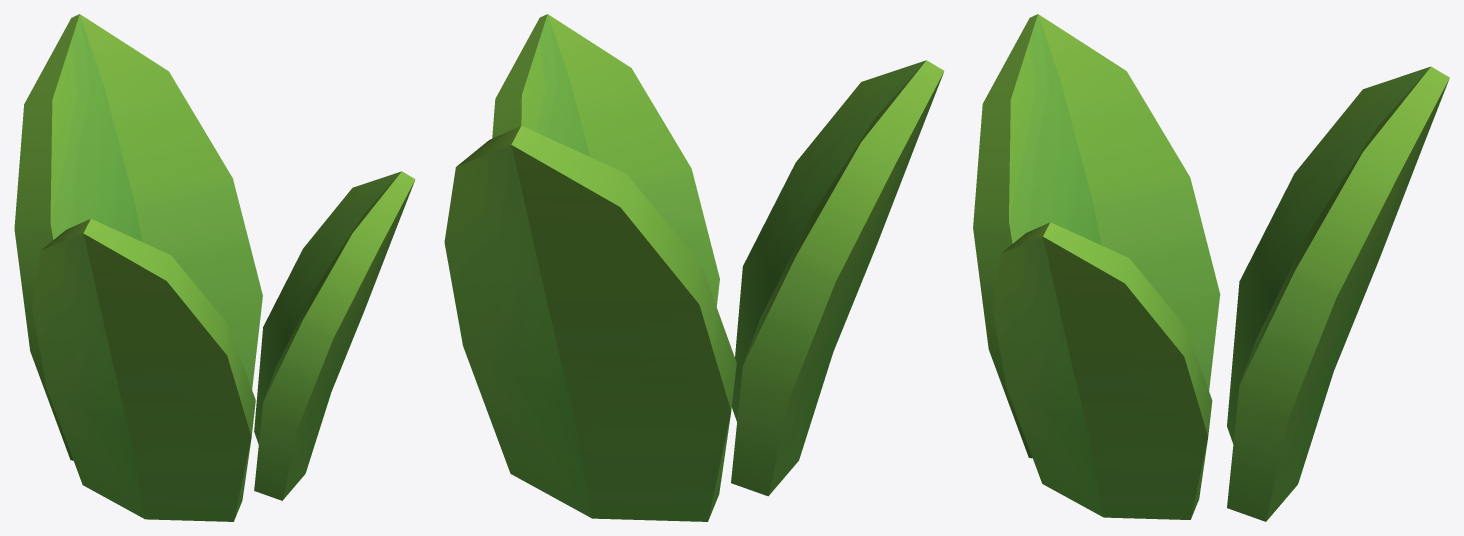
The model's file is grass_1_b_color1.23cd7f64.glb.
3 renders of one model, left to right at view 1: azimuth 30°, elevation 25°; view 2: azimuth 150°, elevation 25°; view 3: azimuth 270°, elevation 25°, orthographic. The views are drawn at different scales.
Visible parts, largest first — view 1: Grass_1_B_Color1; view 2: Grass_1_B_Color1; view 3: Grass_1_B_Color1.
Part boxes in pixels (left/top/right/bottom): Grass_1_B_Color1: left=14, top=14, right=415, bottom=521; Grass_1_B_Color1: left=444, top=14, right=944, bottom=521; Grass_1_B_Color1: left=973, top=14, right=1449, bottom=521.
Size of the model in its own units: 0.5051 by 0.5375 by 0.5557.
Materials: 1 (1 with a texture image).
